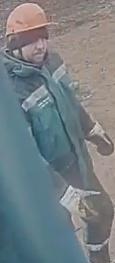gloves: (58, 184, 103, 224), (83, 119, 114, 158)
helmet: (4, 2, 55, 37)
vest: (0, 54, 89, 168)
